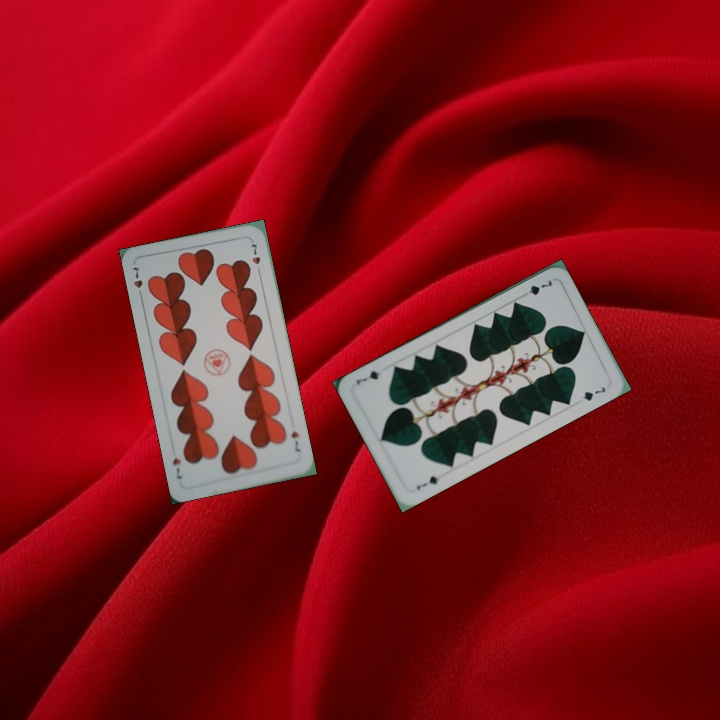G7: (517, 276, 555, 299), (412, 472, 445, 493)
H7: (128, 263, 145, 302), (287, 427, 303, 454)
